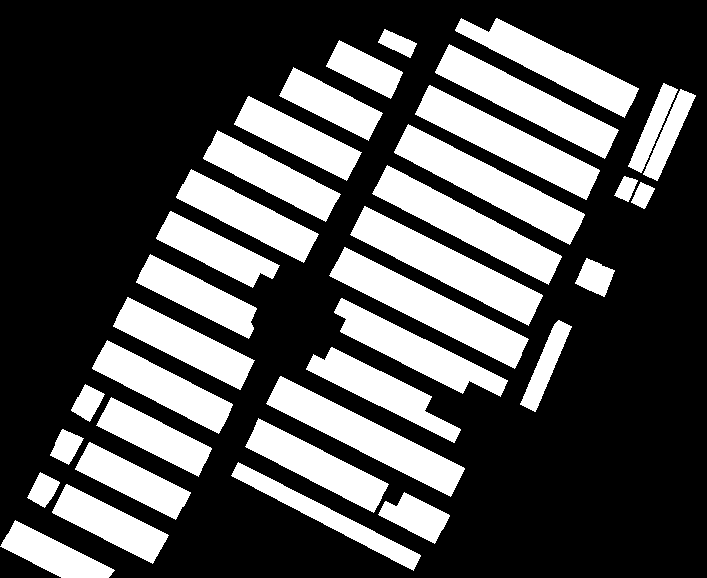parkingspot: (329, 261, 521, 368), (337, 247, 528, 354), (231, 462, 420, 570), (273, 376, 464, 482), (266, 390, 457, 496), (350, 219, 535, 325), (400, 124, 584, 230), (394, 139, 577, 244), (372, 179, 555, 284), (358, 206, 542, 310), (380, 165, 561, 269), (422, 85, 599, 186), (442, 44, 618, 145), (415, 99, 592, 199), (435, 58, 611, 158), (455, 18, 630, 117), (334, 298, 507, 396), (306, 354, 460, 442), (489, 18, 638, 104), (252, 418, 388, 498), (245, 433, 381, 512), (183, 169, 318, 248), (92, 354, 226, 433), (113, 310, 247, 389), (99, 340, 232, 419), (176, 184, 310, 262), (120, 297, 254, 375), (210, 130, 340, 207), (203, 146, 332, 221), (340, 318, 469, 393), (241, 96, 361, 167), (234, 110, 353, 180), (136, 268, 253, 338), (163, 211, 279, 278), (142, 254, 256, 322), (59, 484, 168, 549), (103, 397, 211, 462), (52, 498, 160, 563), (96, 412, 204, 476), (82, 442, 190, 506), (75, 455, 182, 519), (324, 347, 431, 410), (156, 224, 259, 287), (8, 520, 114, 578), (286, 67, 382, 127), (279, 82, 374, 140), (643, 89, 695, 180), (520, 320, 571, 411), (628, 83, 677, 172), (0, 534, 99, 578), (332, 40, 402, 86), (326, 54, 396, 98), (378, 501, 441, 543), (397, 492, 449, 529), (378, 29, 416, 57), (575, 258, 601, 290), (590, 265, 614, 296), (55, 429, 83, 452), (71, 397, 97, 421), (33, 472, 59, 496), (631, 182, 654, 208), (78, 384, 104, 407), (614, 176, 637, 201), (50, 443, 75, 464), (27, 486, 52, 507)
